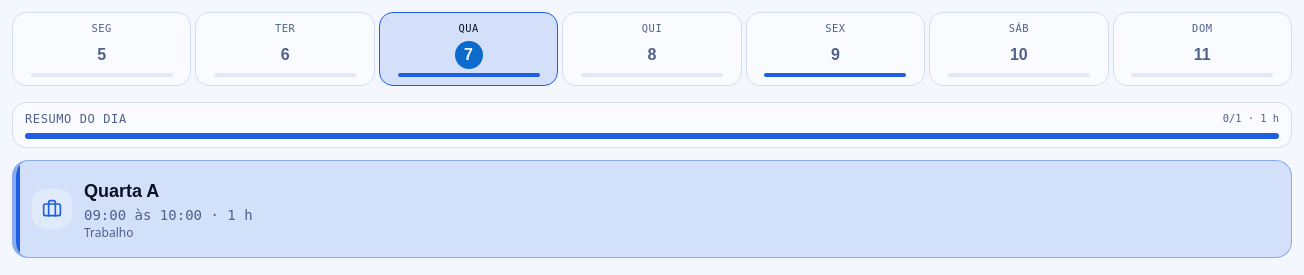
Test: DayView › trocar de aba troca a agenda
Step 1. Click the tab with aria-label "sexta-feira" → [835, 49], box top-left (746, 12), bottom-right (925, 86)
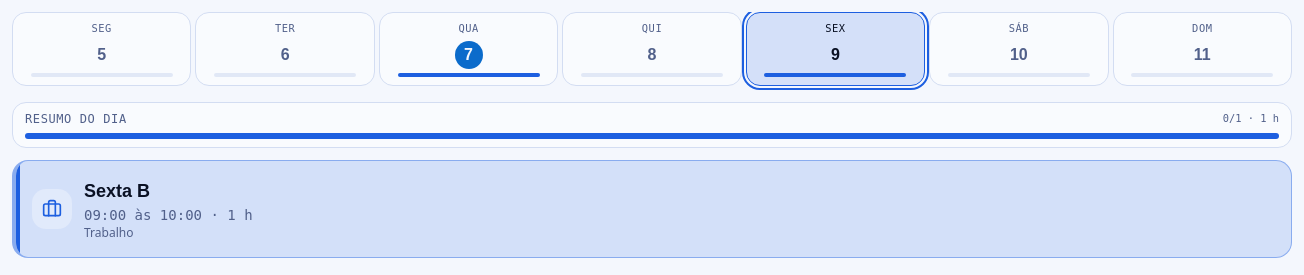
Expected: the button "Sexta B 09:00 às 10:00 · 1 h Trabalho" is shown, top-left (12, 160), bottom-right (1292, 258)
Expected: the button "Quarta A" is gone
